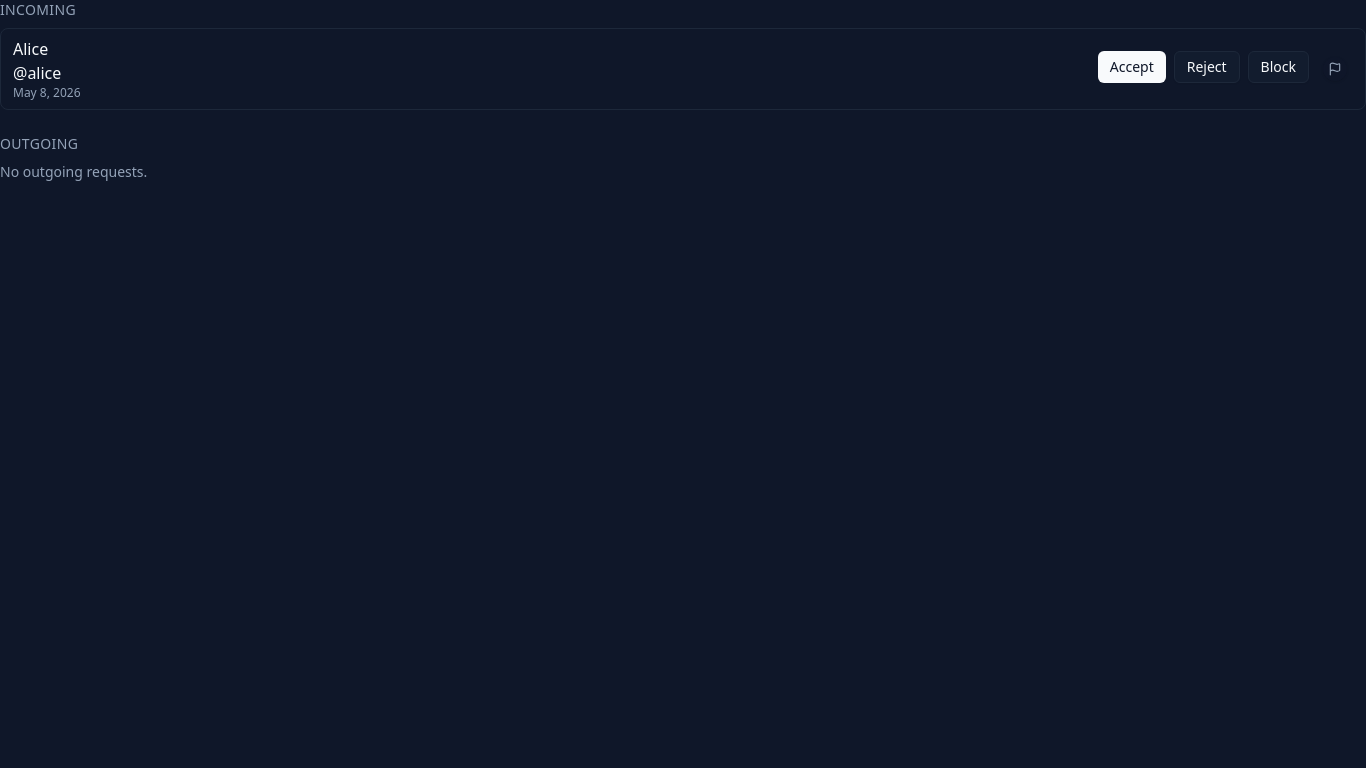
Test: RequestsInbox › blocks the requester from an incoming row
Expected: the text "Alice" is shown, [13, 38, 48, 60]
Click the button "Block" at (1278,67), box [1248, 51, 1309, 83]
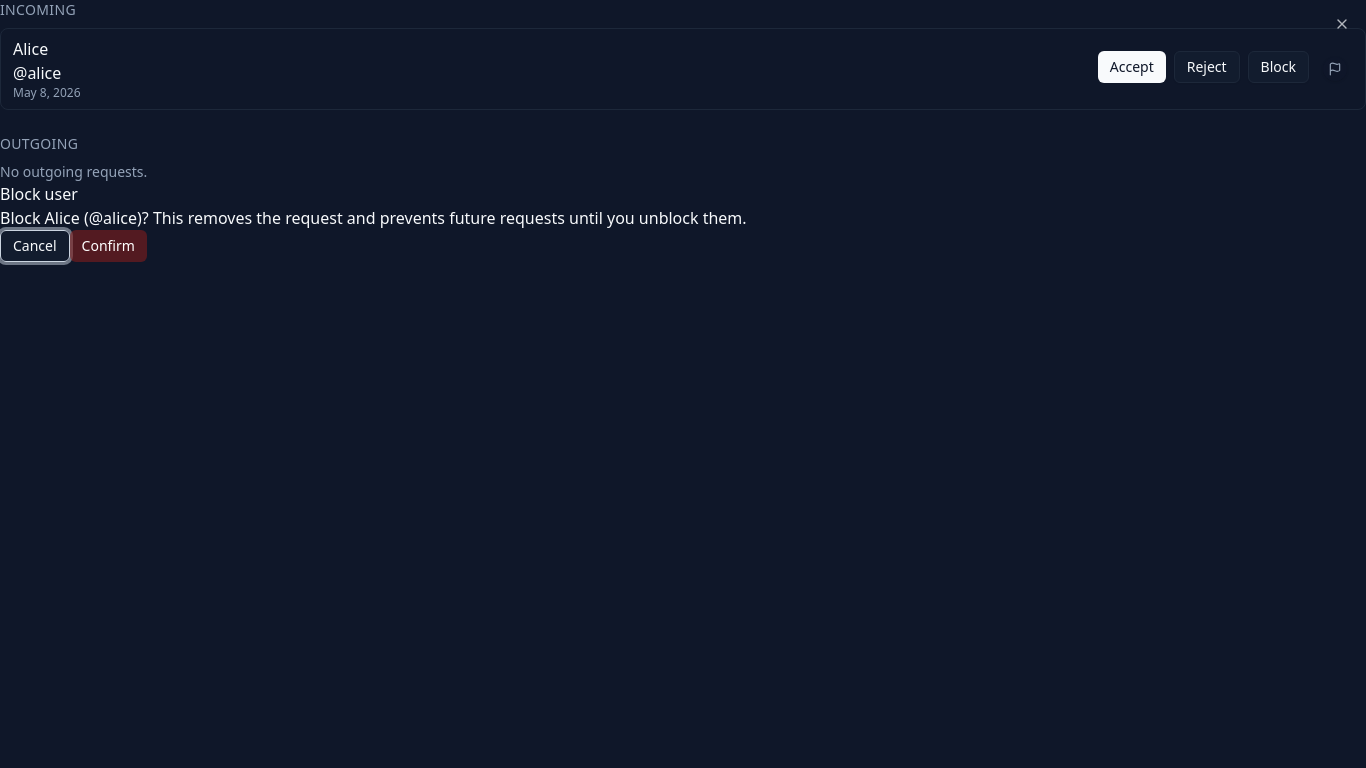
Click the button "Confirm" at (108,246), box [70, 230, 147, 262]
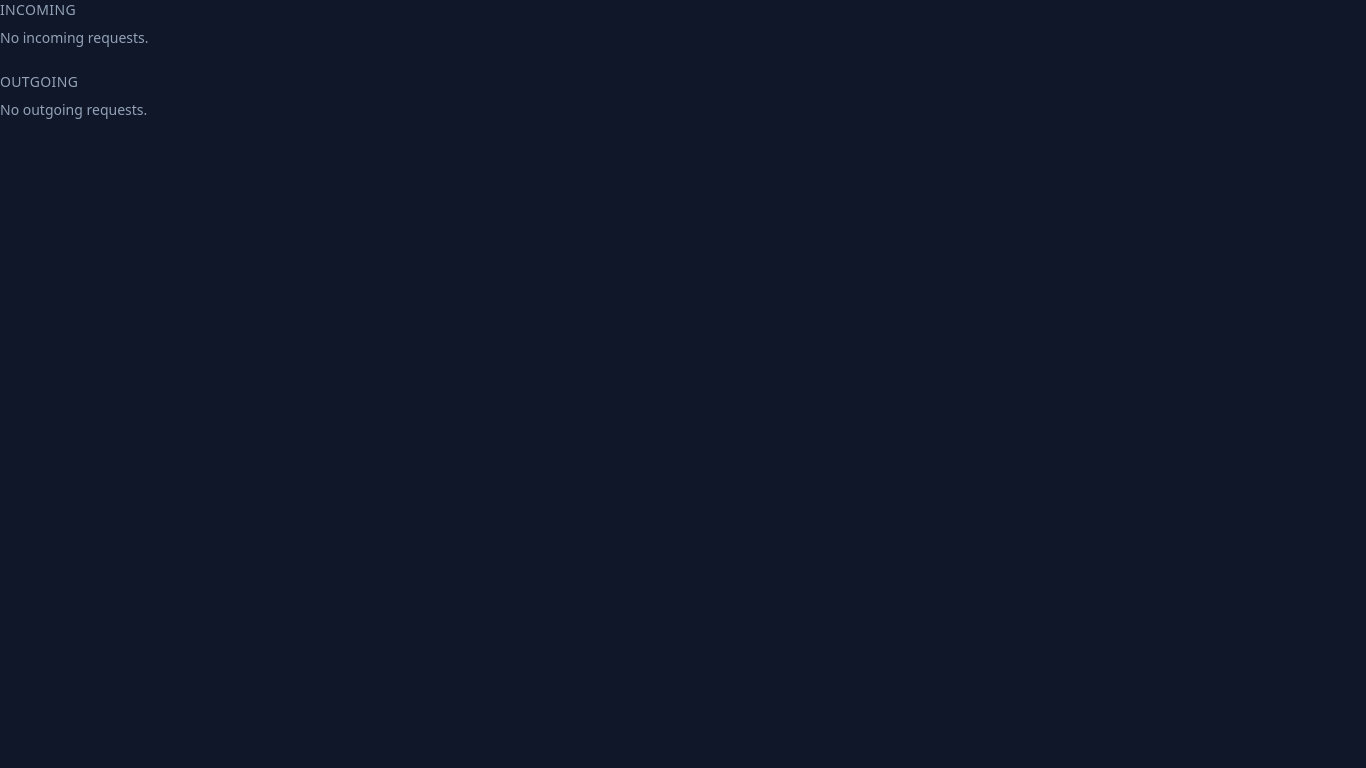
Now the text "Alice" is gone
